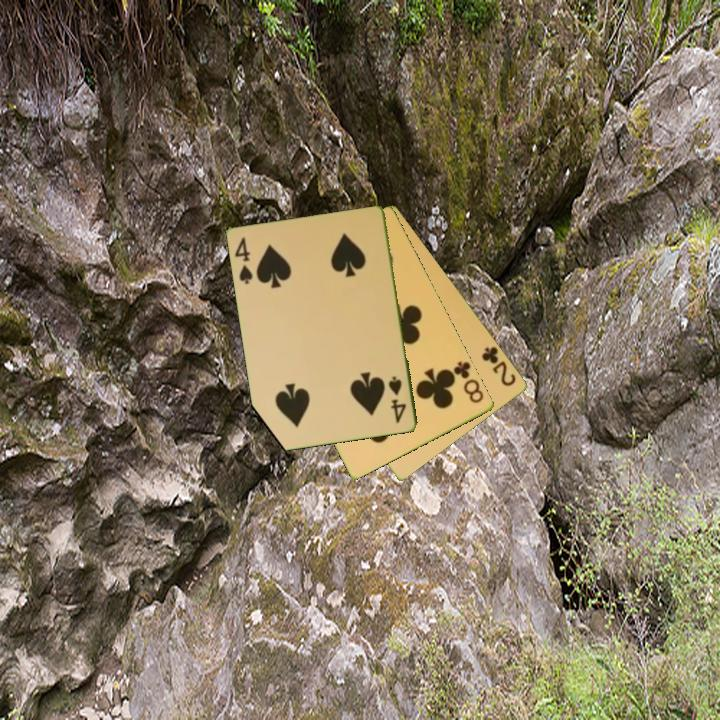2c: (478, 343, 519, 389)
4s: (231, 234, 256, 287), (385, 373, 409, 426)
8c: (448, 358, 487, 406)
